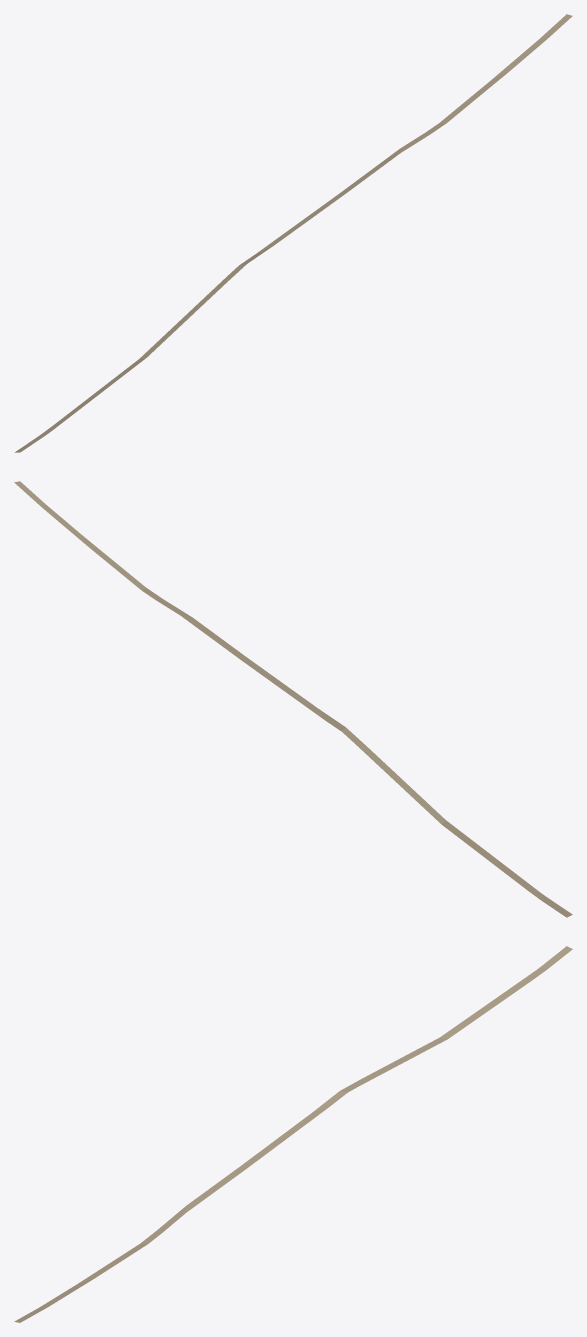
The model's file is farm_-2_-3_track.glb.
3 renders of one model, top to bottom at view 1: azimuth 90°, elevation 25°; view 2: azimuth 150°, elevation 25°; view 3: azimuth 270°, elevation 25°, orthographic.
Parts seen in each view (by area): view 1: geometry_0; view 2: geometry_0; view 3: geometry_0.
Boxes of the visible parts, left/top/right/bottom form: geometry_0: left=14, top=14, right=572, bottom=452; geometry_0: left=14, top=481, right=572, bottom=917; geometry_0: left=14, top=946, right=572, bottom=1322.
Size of the model in its own units: 444 by 17.21 by 257.
